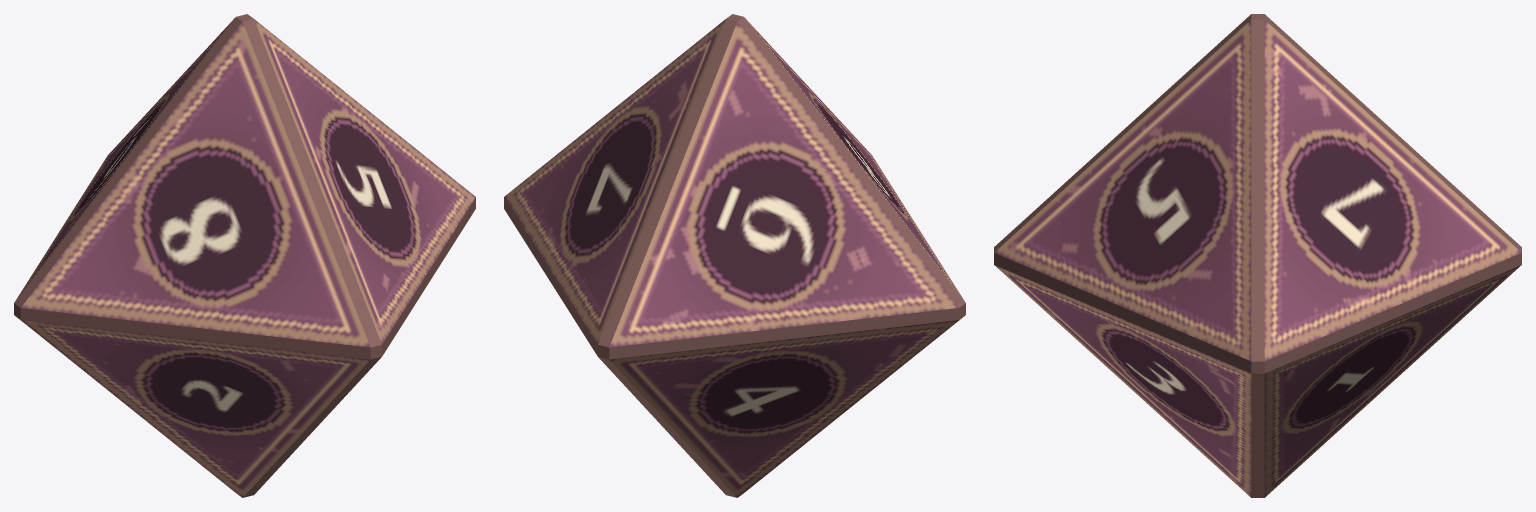
3 views of the same model, side by side, from view 1: azimuth 30°, elevation 25°; view 2: azimuth 150°, elevation 25°; view 3: azimuth 270°, elevation 25° (orthographic).
Bounding box in the file's own units: 198 × 198 × 198.
1 material, 1 textured.
